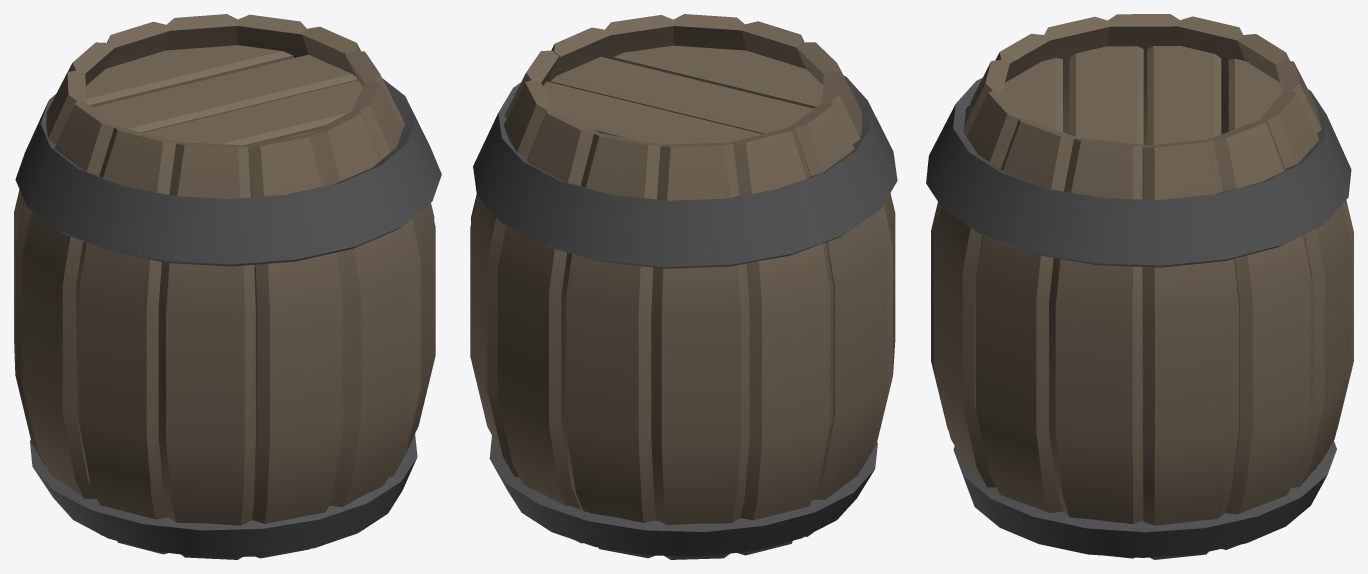
Rendered from Barrel.fbx.
3 renders of one model, left to right at view 1: azimuth 30°, elevation 25°; view 2: azimuth 150°, elevation 25°; view 3: azimuth 270°, elevation 25°, orthographic.
Parts seen in each view (by area): view 1: polySurface820; view 2: polySurface820; view 3: polySurface820.
Part boxes in pixels (x1,y1,x2,y2): polySurface820: [14, 14, 441, 559]; polySurface820: [470, 14, 897, 559]; polySurface820: [926, 14, 1353, 559].
Size of the model in its own units: 0.692 by 0.7411 by 0.6972.
